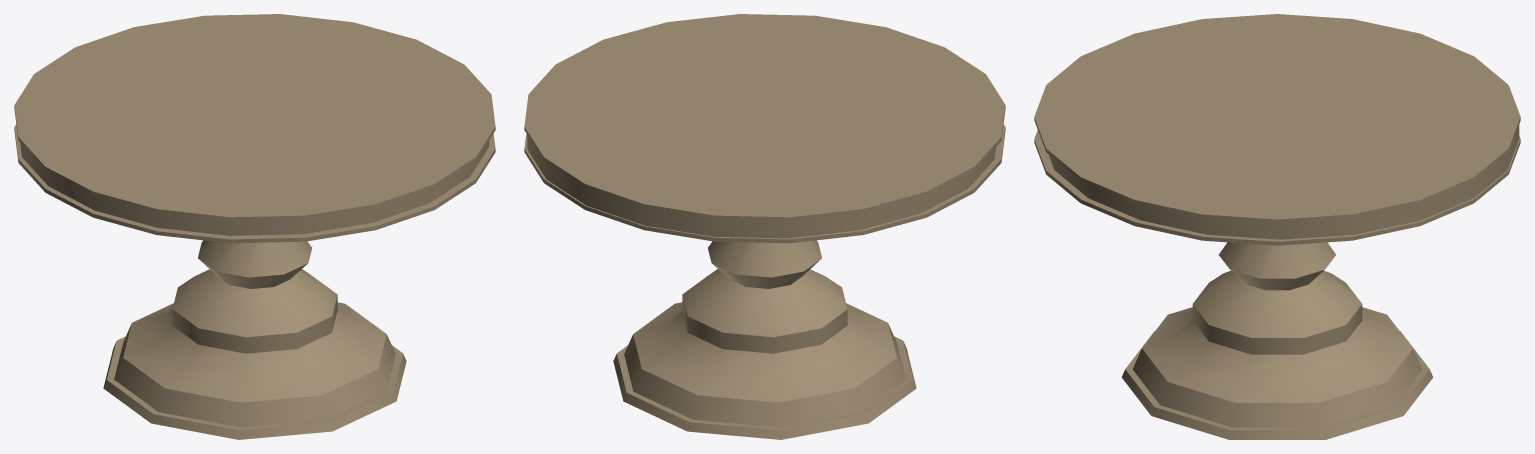
Rendered from table_small.glb.
The picture shows the model from 3 angles, left to right: view 1: azimuth 30°, elevation 25°; view 2: azimuth 150°, elevation 25°; view 3: azimuth 270°, elevation 25°; orthographic projection.
Visible parts, largest first — view 1: Table_RoundSmall; view 2: Table_RoundSmall; view 3: Table_RoundSmall.
Part boxes in pixels (left/top/right/bottom): Table_RoundSmall: left=14, top=14, right=495, bottom=439; Table_RoundSmall: left=524, top=14, right=1005, bottom=439; Table_RoundSmall: left=1034, top=14, right=1520, bottom=439.
Size of the model in its own units: 1.94 by 1.15 by 1.94.
